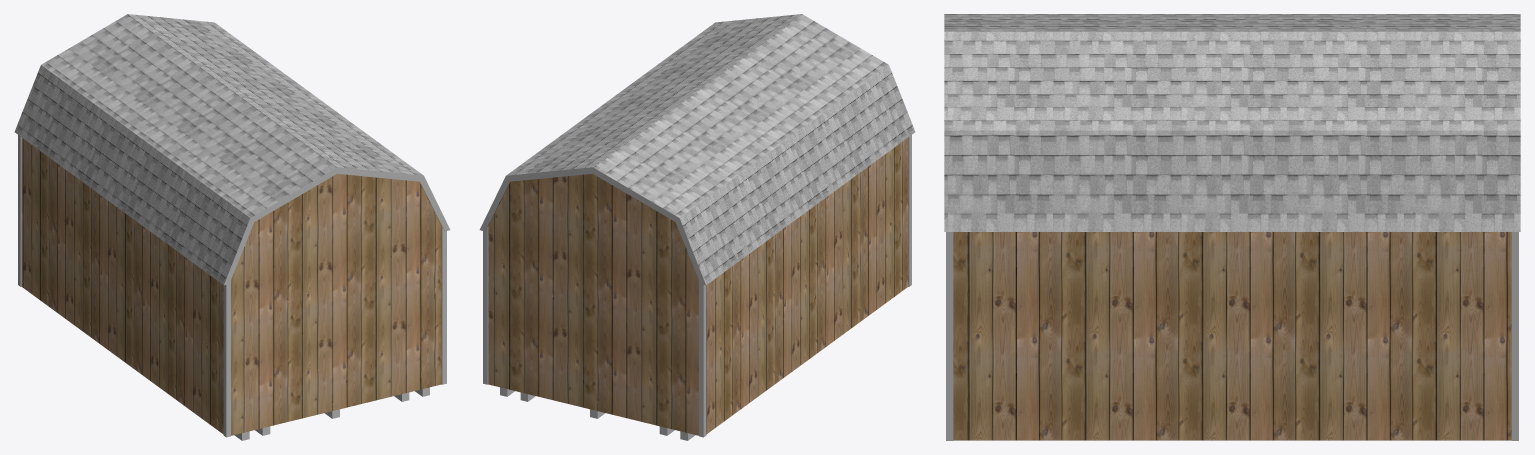
File: Dutch Barn_10x16.obj
3 renders of one model, left to right at view 1: azimuth 30°, elevation 25°; view 2: azimuth 150°, elevation 25°; view 3: azimuth 270°, elevation 25°, orthographic. The views are drawn at different scales.
Visible parts, largest first — view 1: Shed, Roof, Trim, Sides, Floor; view 2: Shed, Roof, Trim, Sides, Floor; view 3: Roof, Shed, Trim, Floor.
Boxes of the visible parts, bbox=[...] form: Shed: bbox=[21, 138, 444, 435]; Roof: bbox=[14, 14, 423, 284]; Trim: bbox=[18, 135, 446, 437]; Sides: bbox=[224, 167, 450, 285]; Floor: bbox=[234, 387, 429, 440]; Shed: bbox=[485, 138, 908, 435]; Roof: bbox=[506, 14, 915, 284]; Trim: bbox=[483, 135, 911, 437]; Sides: bbox=[479, 167, 705, 285]; Floor: bbox=[500, 387, 695, 440]; Roof: bbox=[944, 14, 1520, 231]; Shed: bbox=[953, 232, 1511, 440]; Trim: bbox=[946, 232, 1518, 440]; Floor: bbox=[953, 440, 1511, 440].
Bounding box in the file's own units: 3.08 × 3.27 × 4.93.
